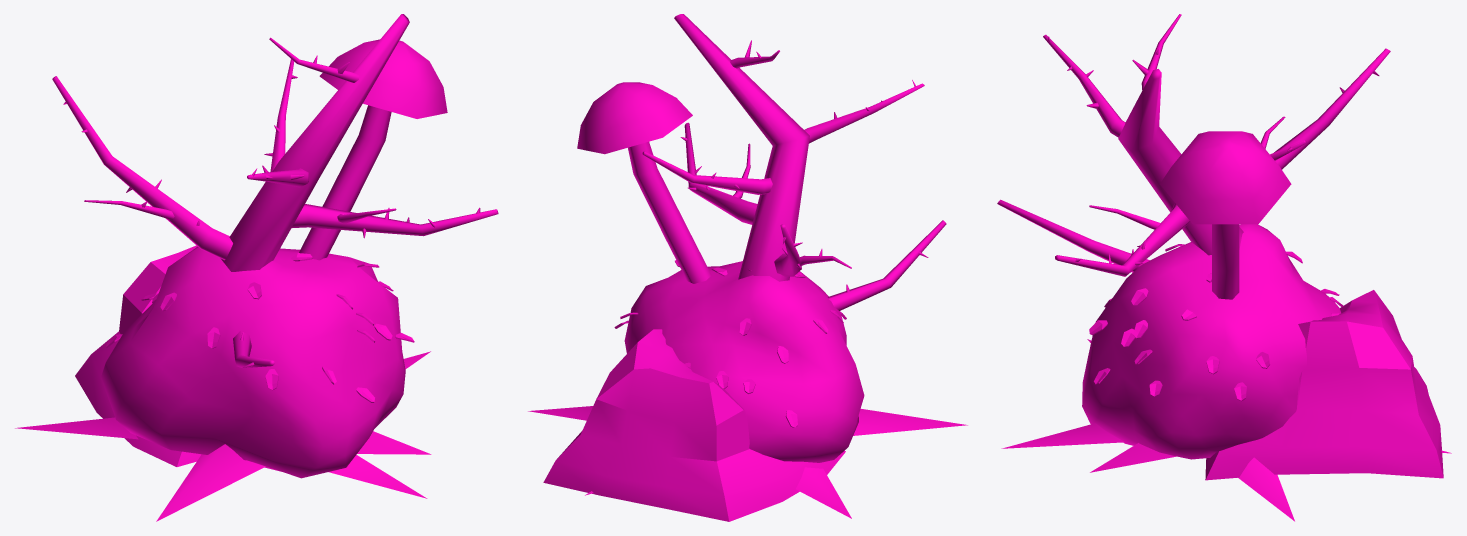
The model's file is ForestOrganic.fbx.
3 renders of one model, left to right at view 1: azimuth 30°, elevation 25°; view 2: azimuth 150°, elevation 25°; view 3: azimuth 270°, elevation 25°, orthographic. The views are drawn at different scales.
Visible parts, largest first — view 1: BushLeafy, TreeSpiky, Mushroom 02, StoneMossy; view 2: BushLeafy, StoneMossy, TreeSpiky, Mushroom 02; view 3: BushLeafy, StoneMossy, TreeSpiky, Mushroom 02.
Part boxes in pixels (<box>): BushLeafy: <box>101,246,414,478</box>; TreeSpiky: <box>15,14,498,521</box>; Mushroom 02: <box>299,39,447,260</box>; StoneMossy: <box>75,245,201,466</box>; BushLeafy: <box>614,260,864,462</box>; StoneMossy: <box>543,329,845,521</box>; TreeSpiky: <box>528,14,967,518</box>; Mushroom 02: <box>577,82,711,283</box>; BushLeafy: <box>1082,224,1343,459</box>; StoneMossy: <box>1205,290,1443,480</box>; TreeSpiky: <box>997,14,1451,521</box>; Mushroom 02: <box>1160,131,1291,299</box>.
Bounding box in the file's own units: 114 × 119 × 118.
